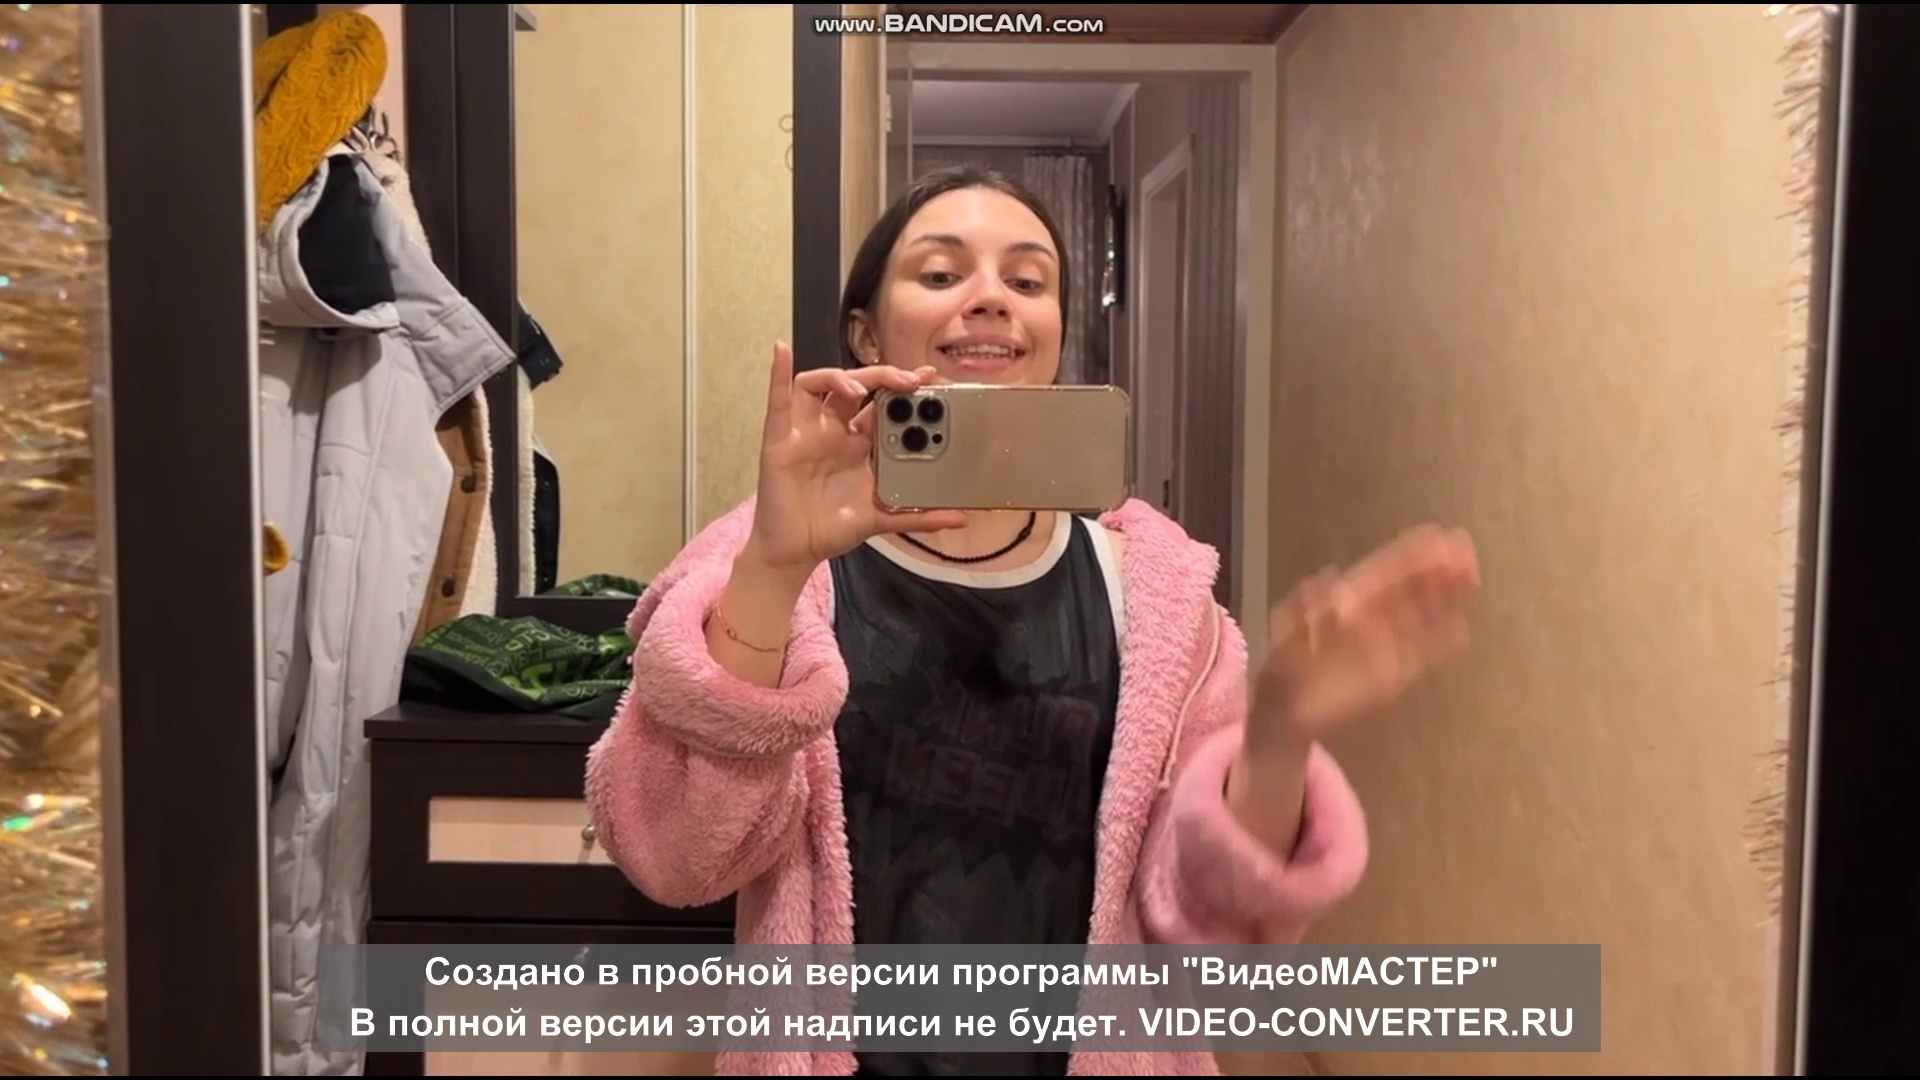Ладонь: (1255, 524, 1476, 740)
